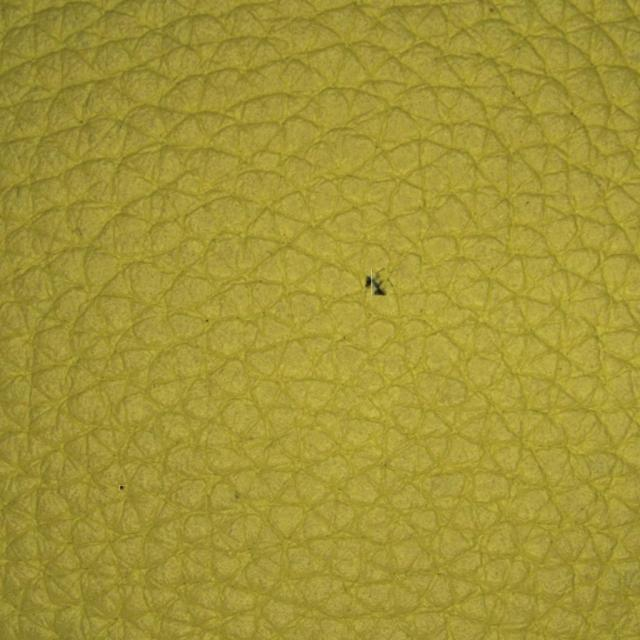Hole: (294, 231, 460, 329)
pinhole: (73, 406, 158, 573)
